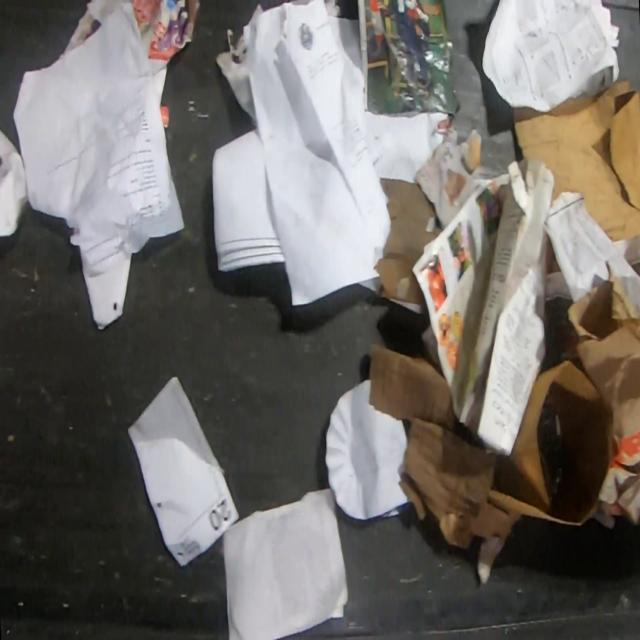cardboard: (367, 342, 498, 552), (464, 356, 614, 538), (510, 77, 640, 242), (372, 176, 443, 305), (591, 429, 640, 531), (546, 239, 553, 273)
